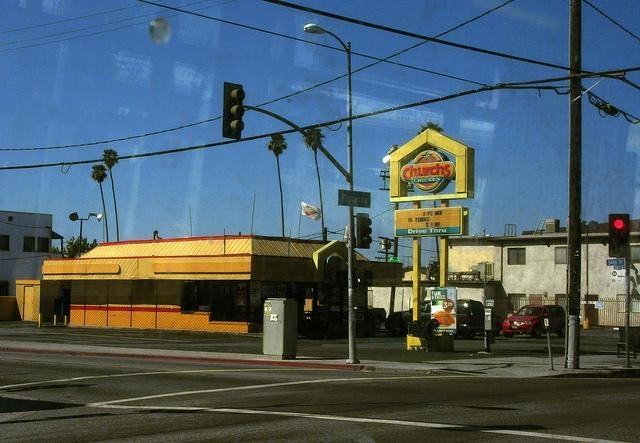car: (384, 299, 484, 340), (502, 304, 566, 338), (368, 306, 386, 328)
